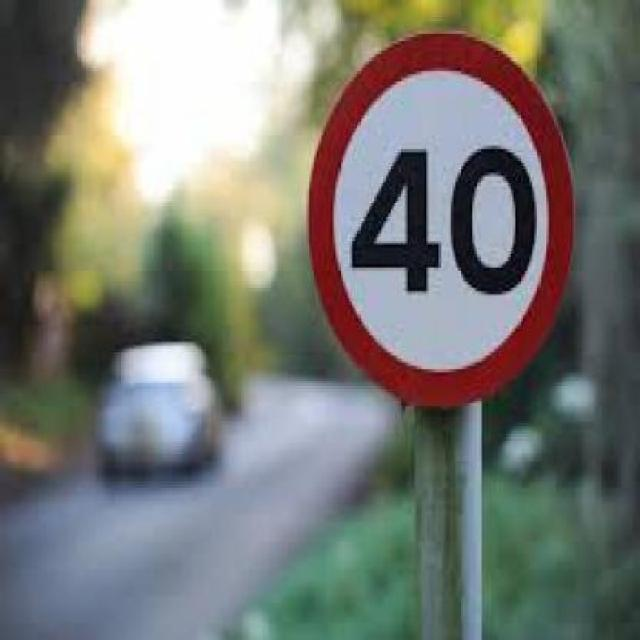forb_speed_over_40: (312, 38, 566, 398)
